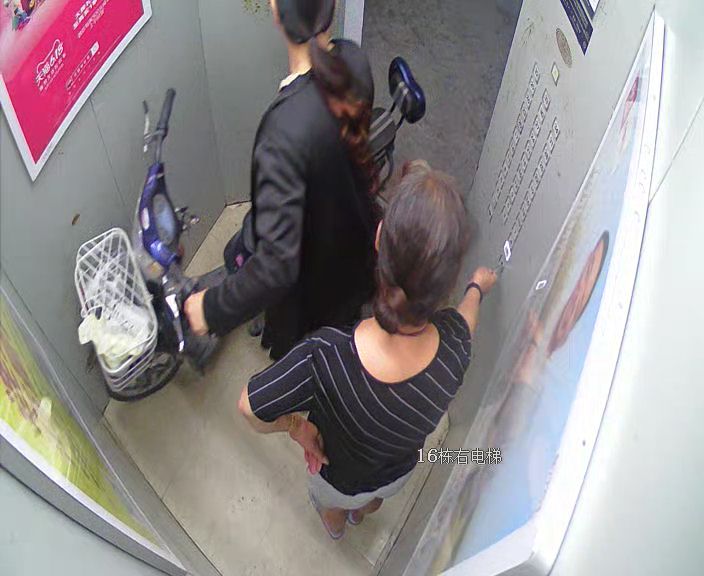Electric-bicycle: (75, 53, 424, 402)
